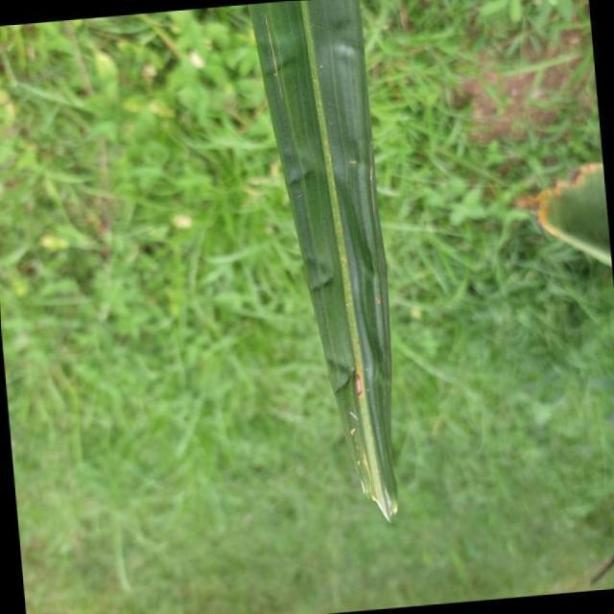Boron: (244, 0, 406, 524)
